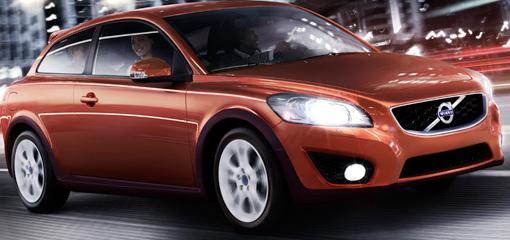front_view: (266, 67, 501, 190)
headlight: (261, 86, 382, 134)
side_glass: (27, 24, 190, 85)
